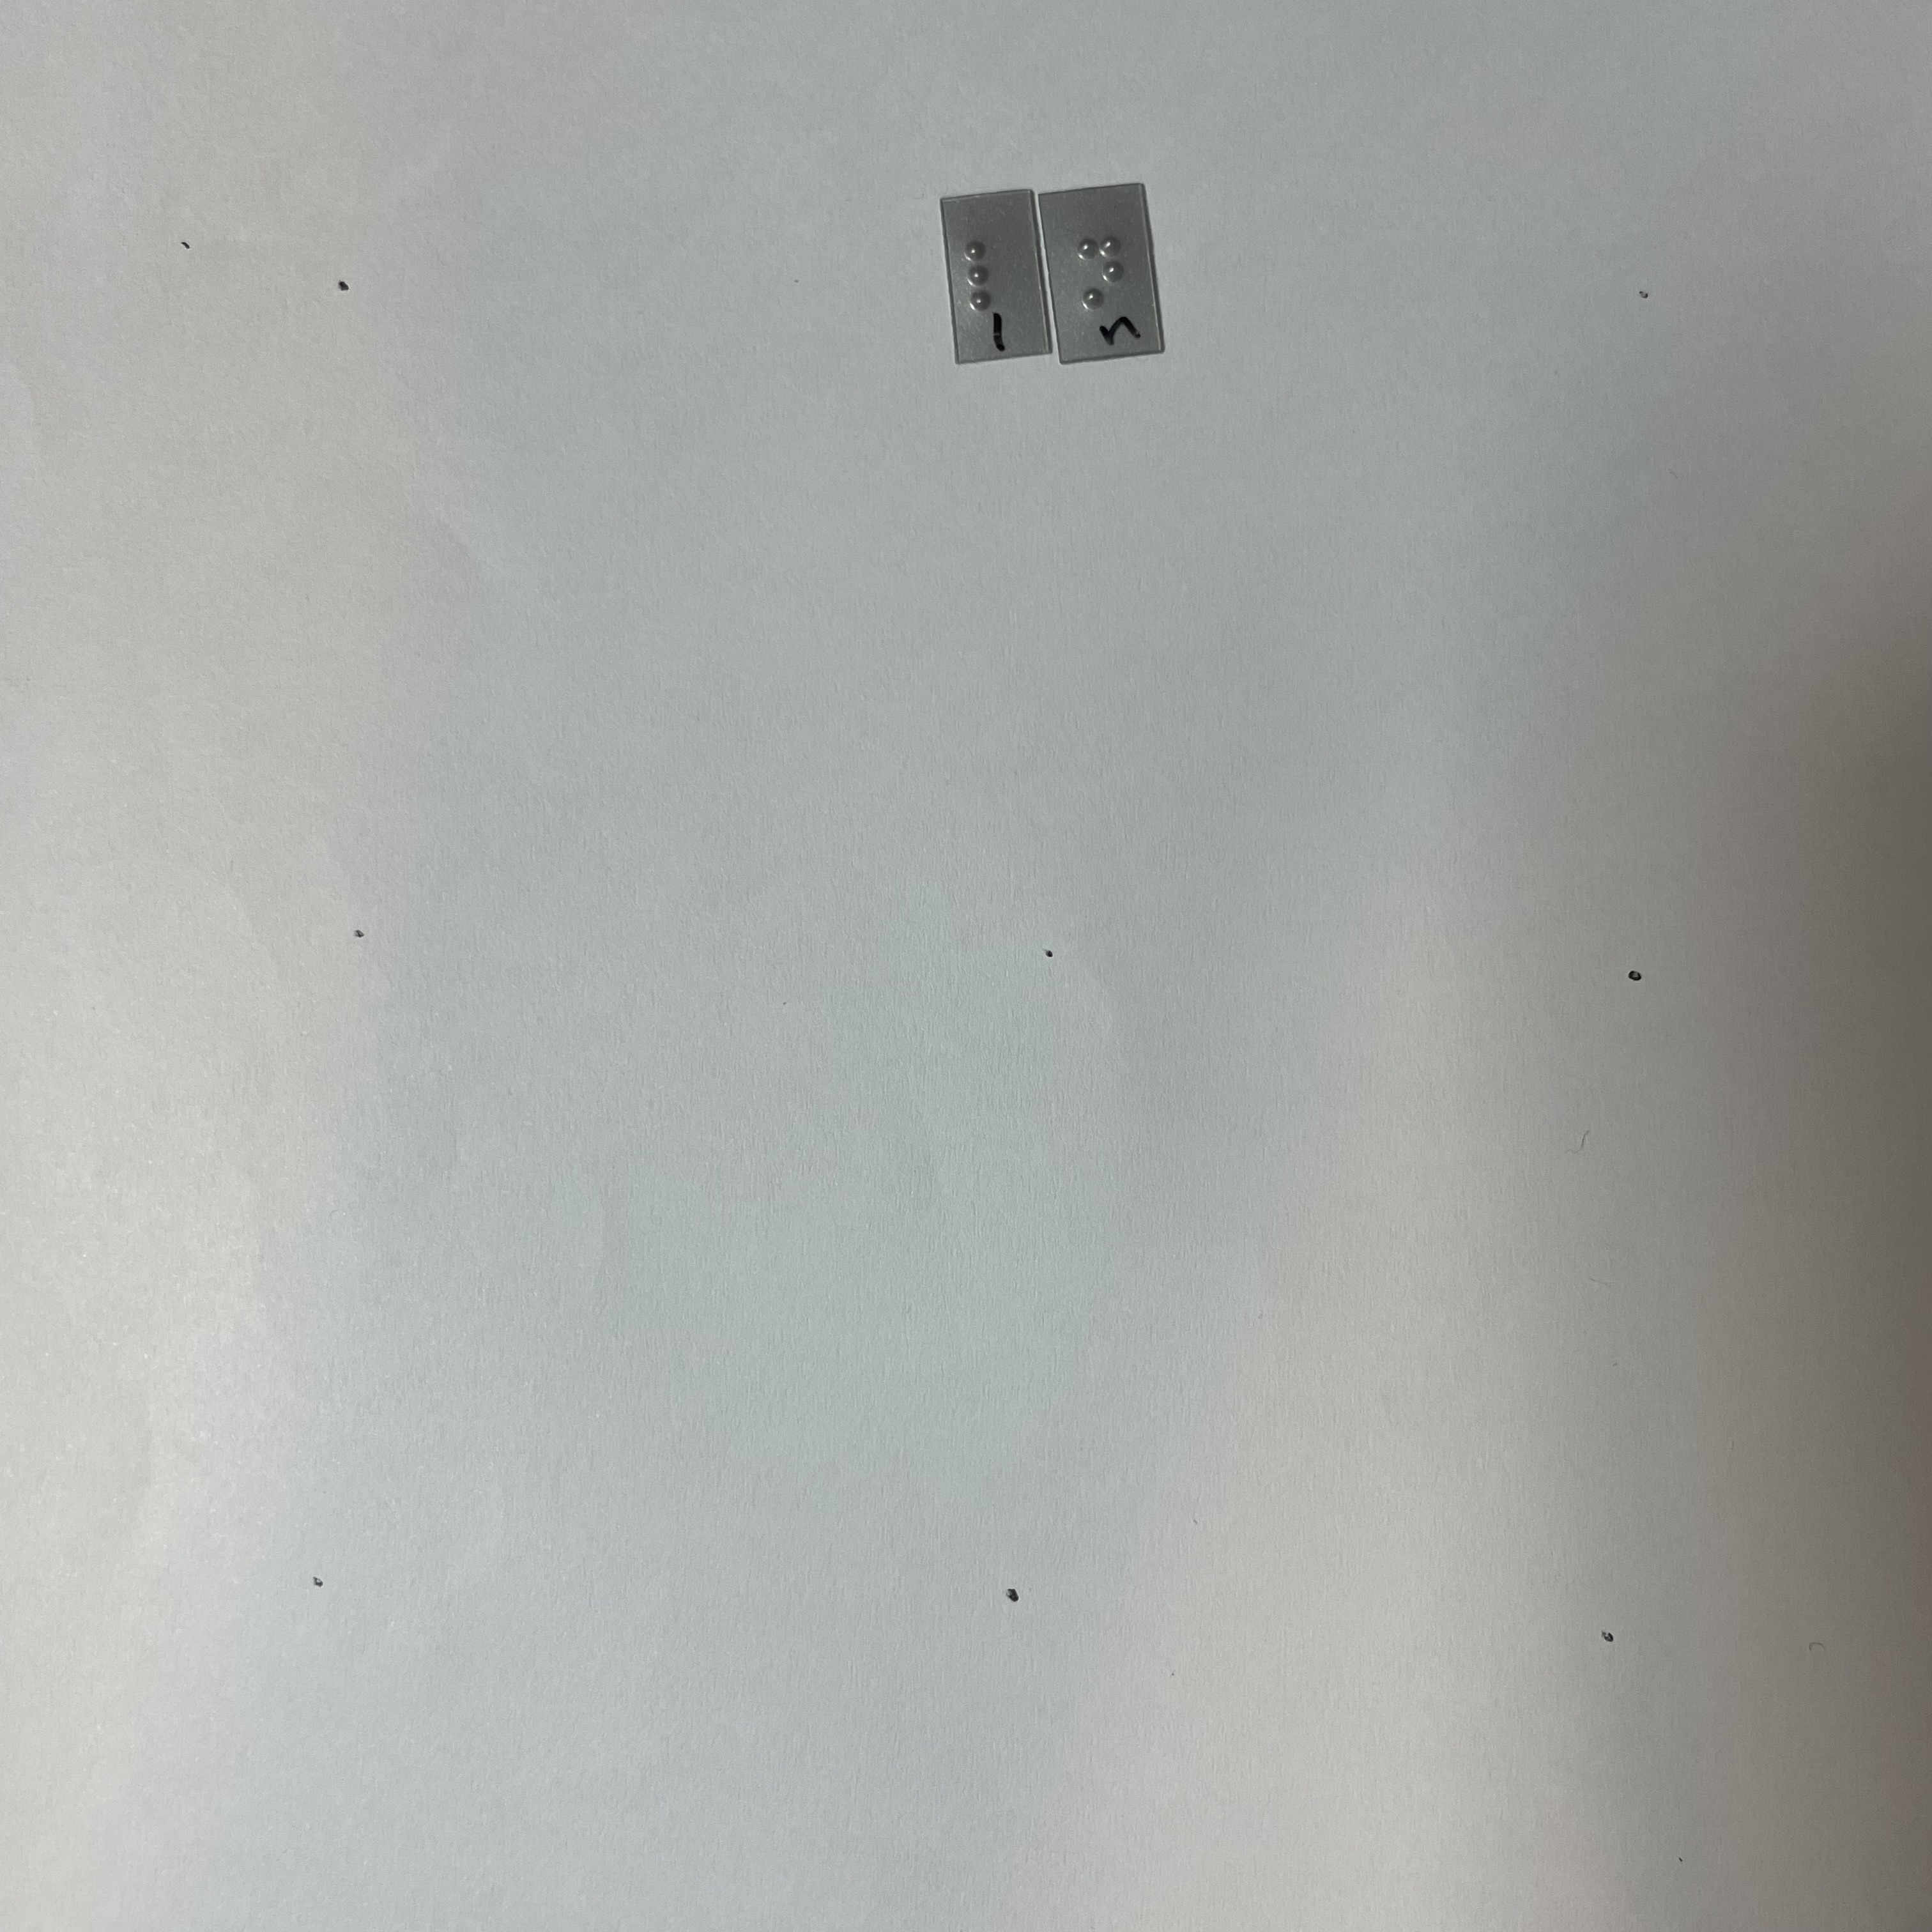l: (959, 229, 1025, 312)
n: (1075, 213, 1137, 312)
